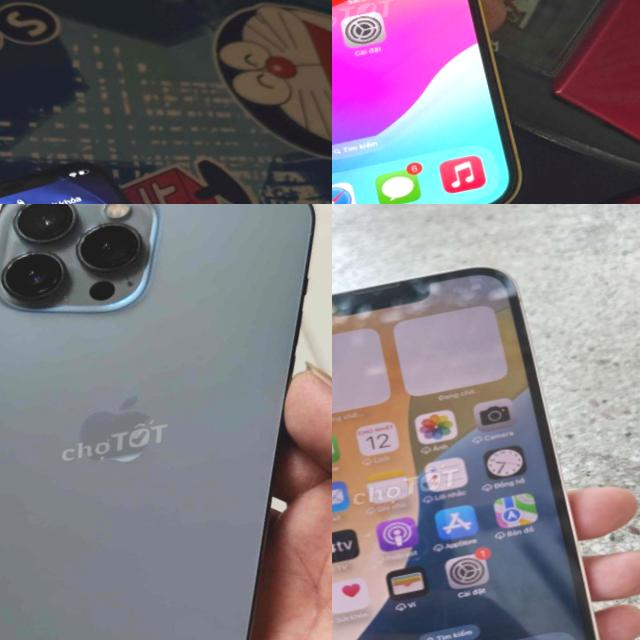gen_12_13: (0, 204, 332, 640), (332, 248, 630, 640), (0, 115, 305, 204)
gen_14: (332, 0, 532, 204)
